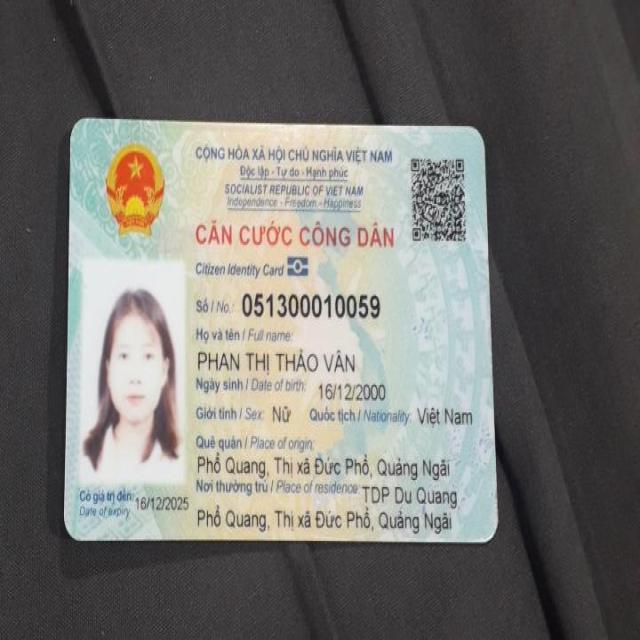bottom_left: (48, 506, 97, 554)
bottom_right: (469, 514, 506, 556)
image_person: (78, 262, 190, 482)
top_left: (58, 109, 98, 150)
top_right: (456, 115, 498, 159)
